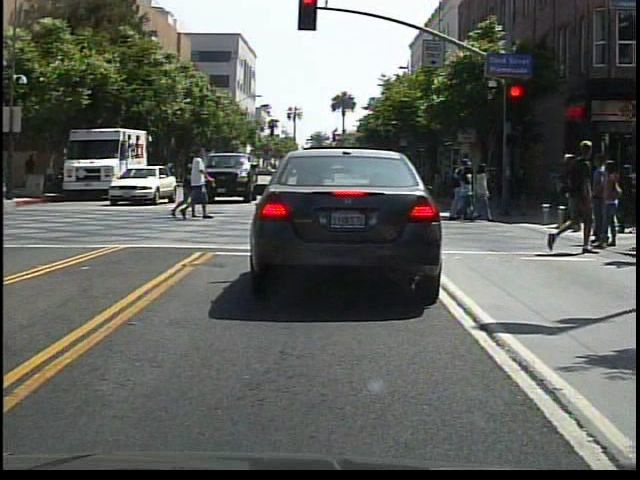person: (552, 135, 615, 263), (557, 156, 592, 235), (178, 151, 214, 227), (298, 155, 332, 215)
